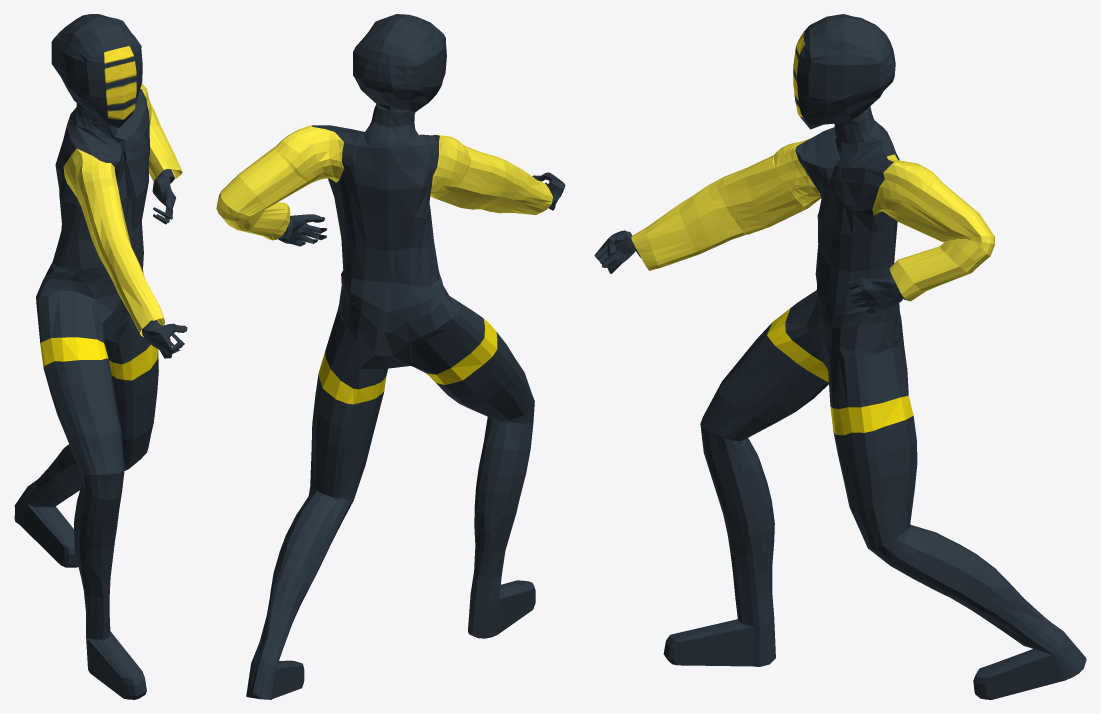
Rendered from Sentry_WF_000003.obj.
The picture shows the model from 3 angles, left to right: view 1: azimuth 30°, elevation 25°; view 2: azimuth 150°, elevation 25°; view 3: azimuth 270°, elevation 25°; orthographic projection. The views are drawn at different scales.
Parts seen in each view (by area): view 1: Cube; view 2: Cube; view 3: Cube.
Boxes of the visible parts, left/top/right/bottom form: Cube: left=14, top=14, right=187, bottom=699; Cube: left=216, top=14, right=565, bottom=699; Cube: left=594, top=14, right=1086, bottom=699.
Bounding box in the file's own units: 1.17 × 3.64 × 2.43.
